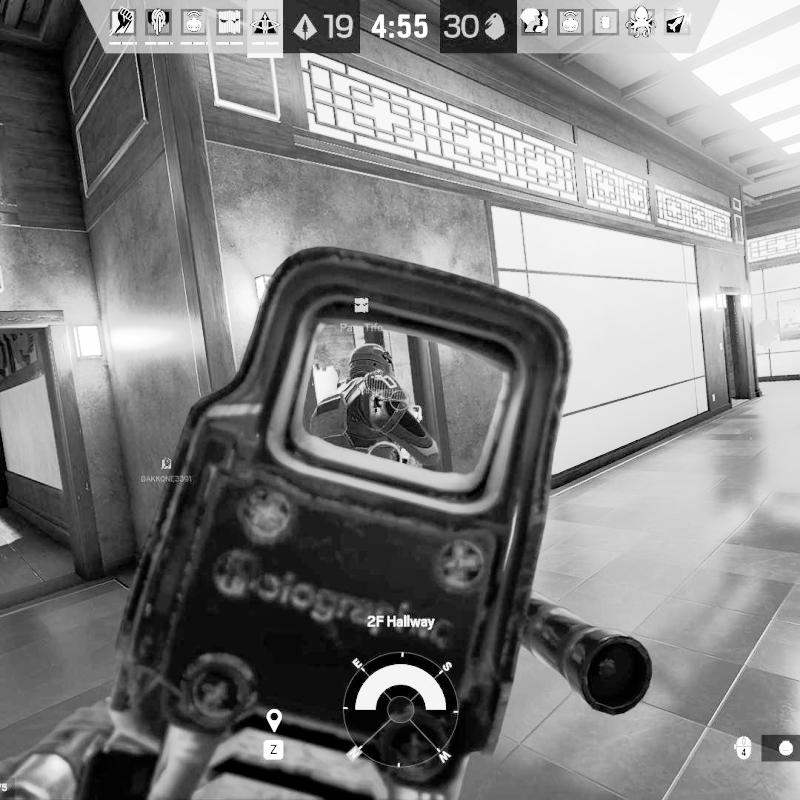Character: (307, 341, 443, 473)
Friend_label: (338, 295, 386, 334), (138, 456, 195, 483)
Head: (347, 342, 394, 382)
